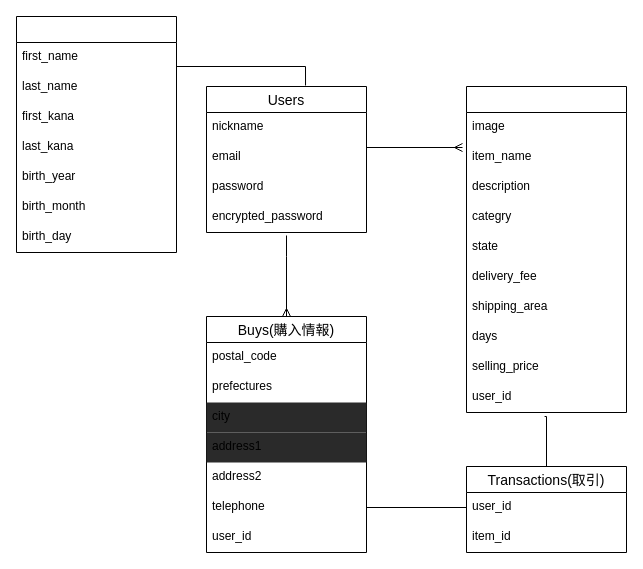
Image size: 643x569. Some labels were removed from this diagram. The shapes that lost their labels are listed below. From the top down, each one's box as (x1, y1, x2, y2) in pixels, then its label:
(16, 16, 176, 252): Profiles
(466, 86, 626, 412): Items(出品商品)
